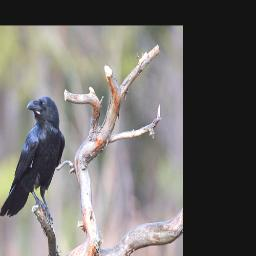Crow: (0, 95, 65, 222)
